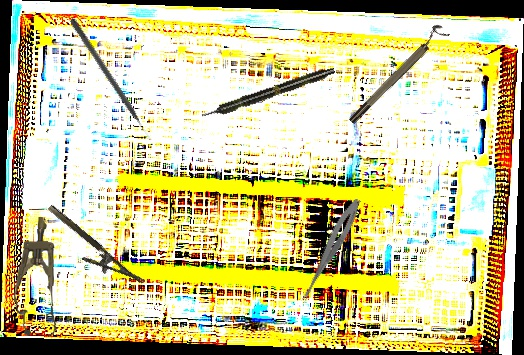Fixation Ring: (343, 22, 450, 126)
Handpiece: (199, 64, 337, 122)
Micro Scissor: (297, 195, 365, 307)
Needle Holder: (37, 203, 145, 299)
Pusher: (67, 17, 154, 143)
Speculum: (11, 215, 65, 338)
